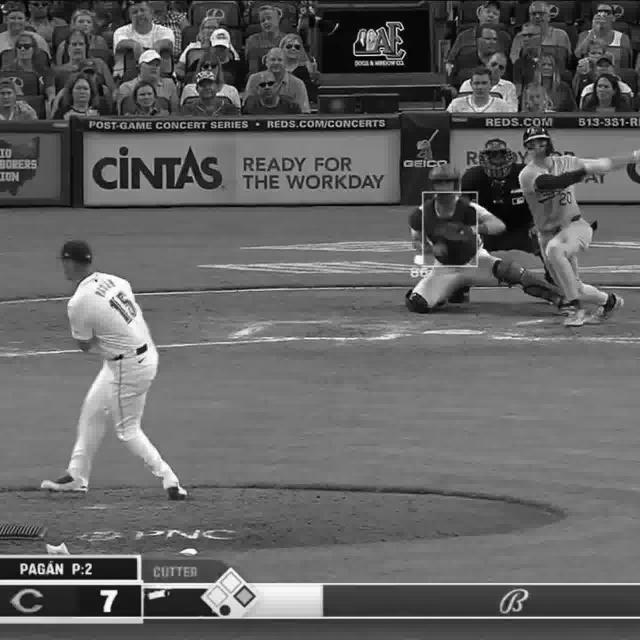base: (419, 328, 488, 336)
baseball_glove: (439, 224, 474, 244)
shoe: (36, 475, 92, 498), (596, 292, 626, 330), (563, 315, 594, 328), (168, 480, 188, 498)
